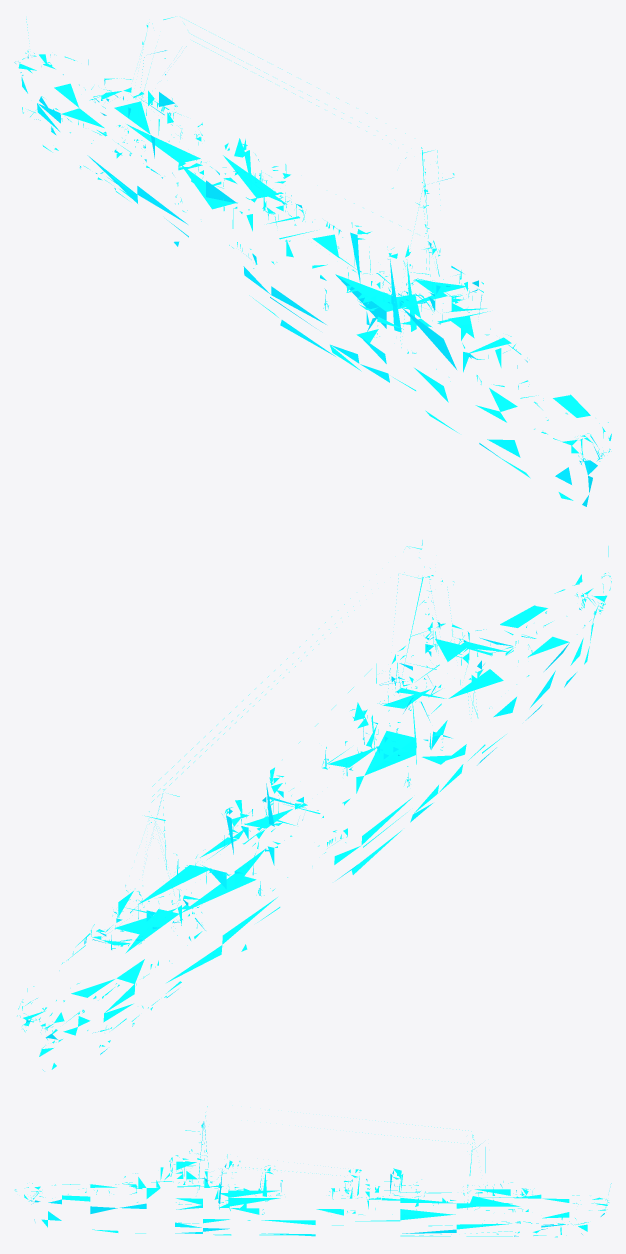
Rendered from Vauquelin.glb.
3 renders of one model, top to bottom at view 1: azimuth 30°, elevation 25°; view 2: azimuth 150°, elevation 25°; view 3: azimuth 270°, elevation 25°, orthographic. The views are drawn at different scales.
Bounding box in the file's own units: 0.803 × 2.17 × 8.66.
